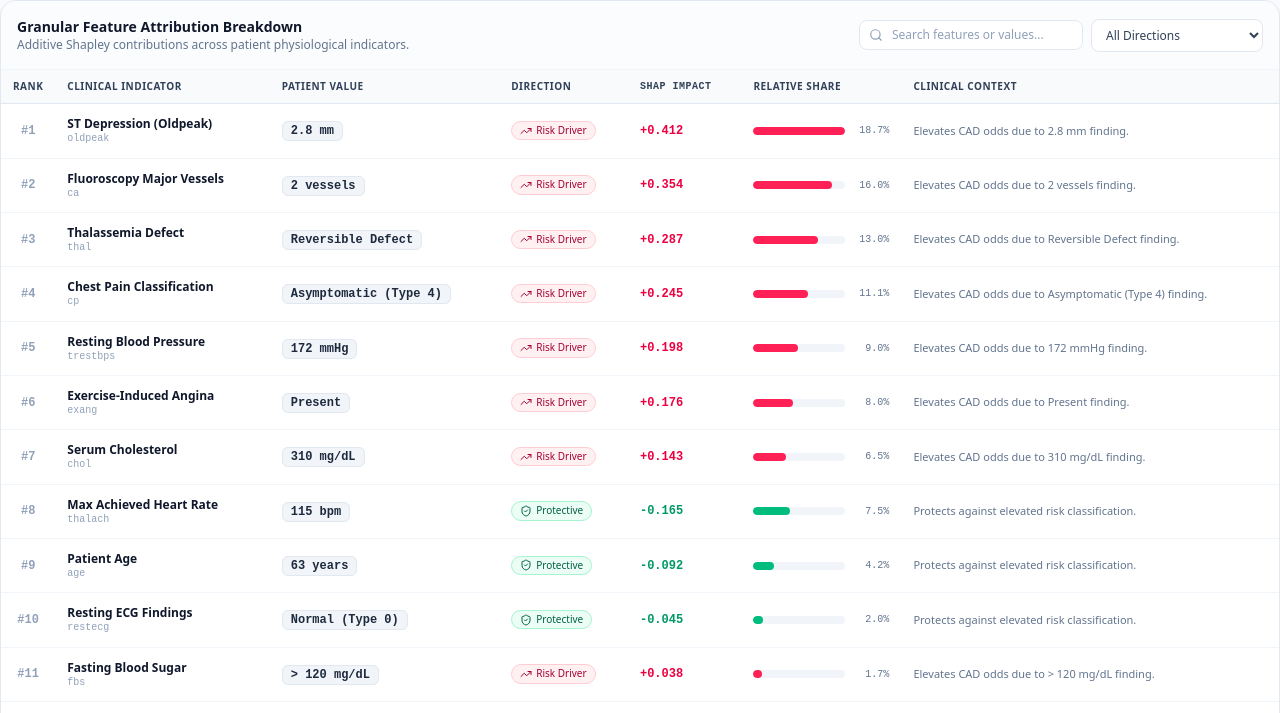
Test case: ShapAttributionTable Component › should filter features by direction (risk drivers vs protective)
Select "Protective Factors Only" in the dropdown at (1177, 35), box [1091, 18, 1263, 52]
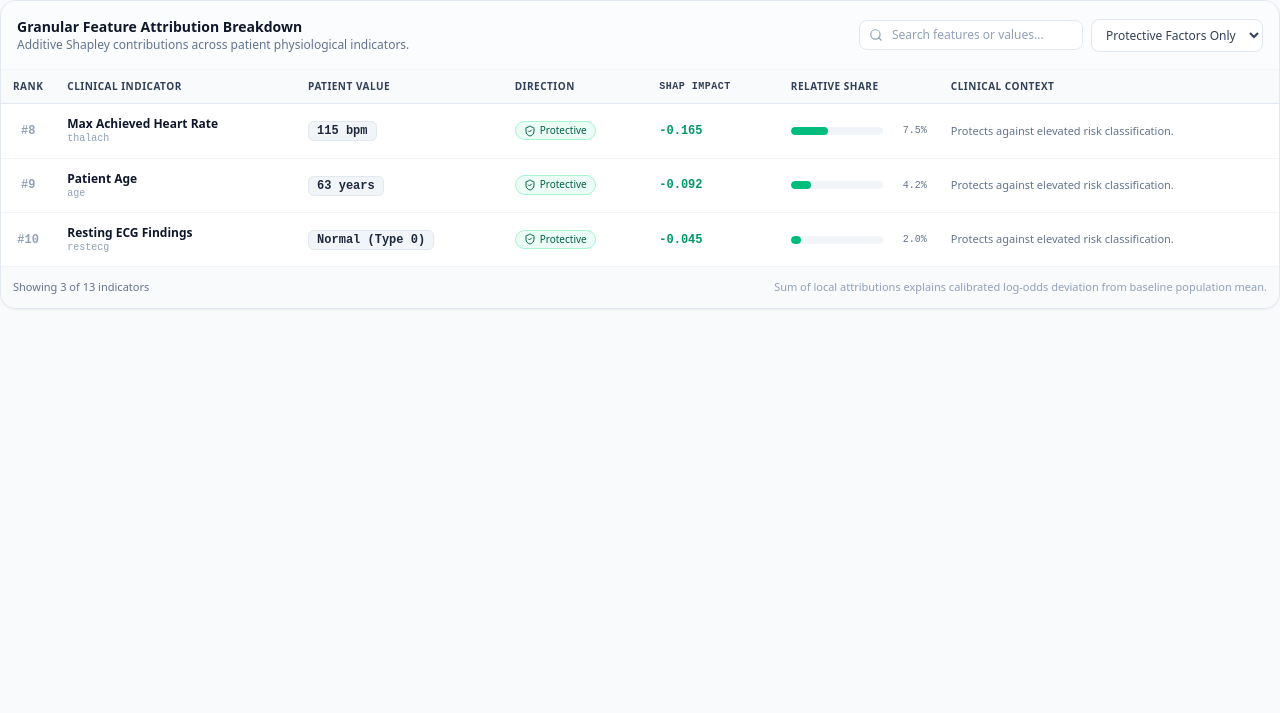
Expected: the text "Max Achieved Heart Rate" is shown, [67, 115, 218, 132]
Now the text "ST Depression (Oldpeak)" is gone
